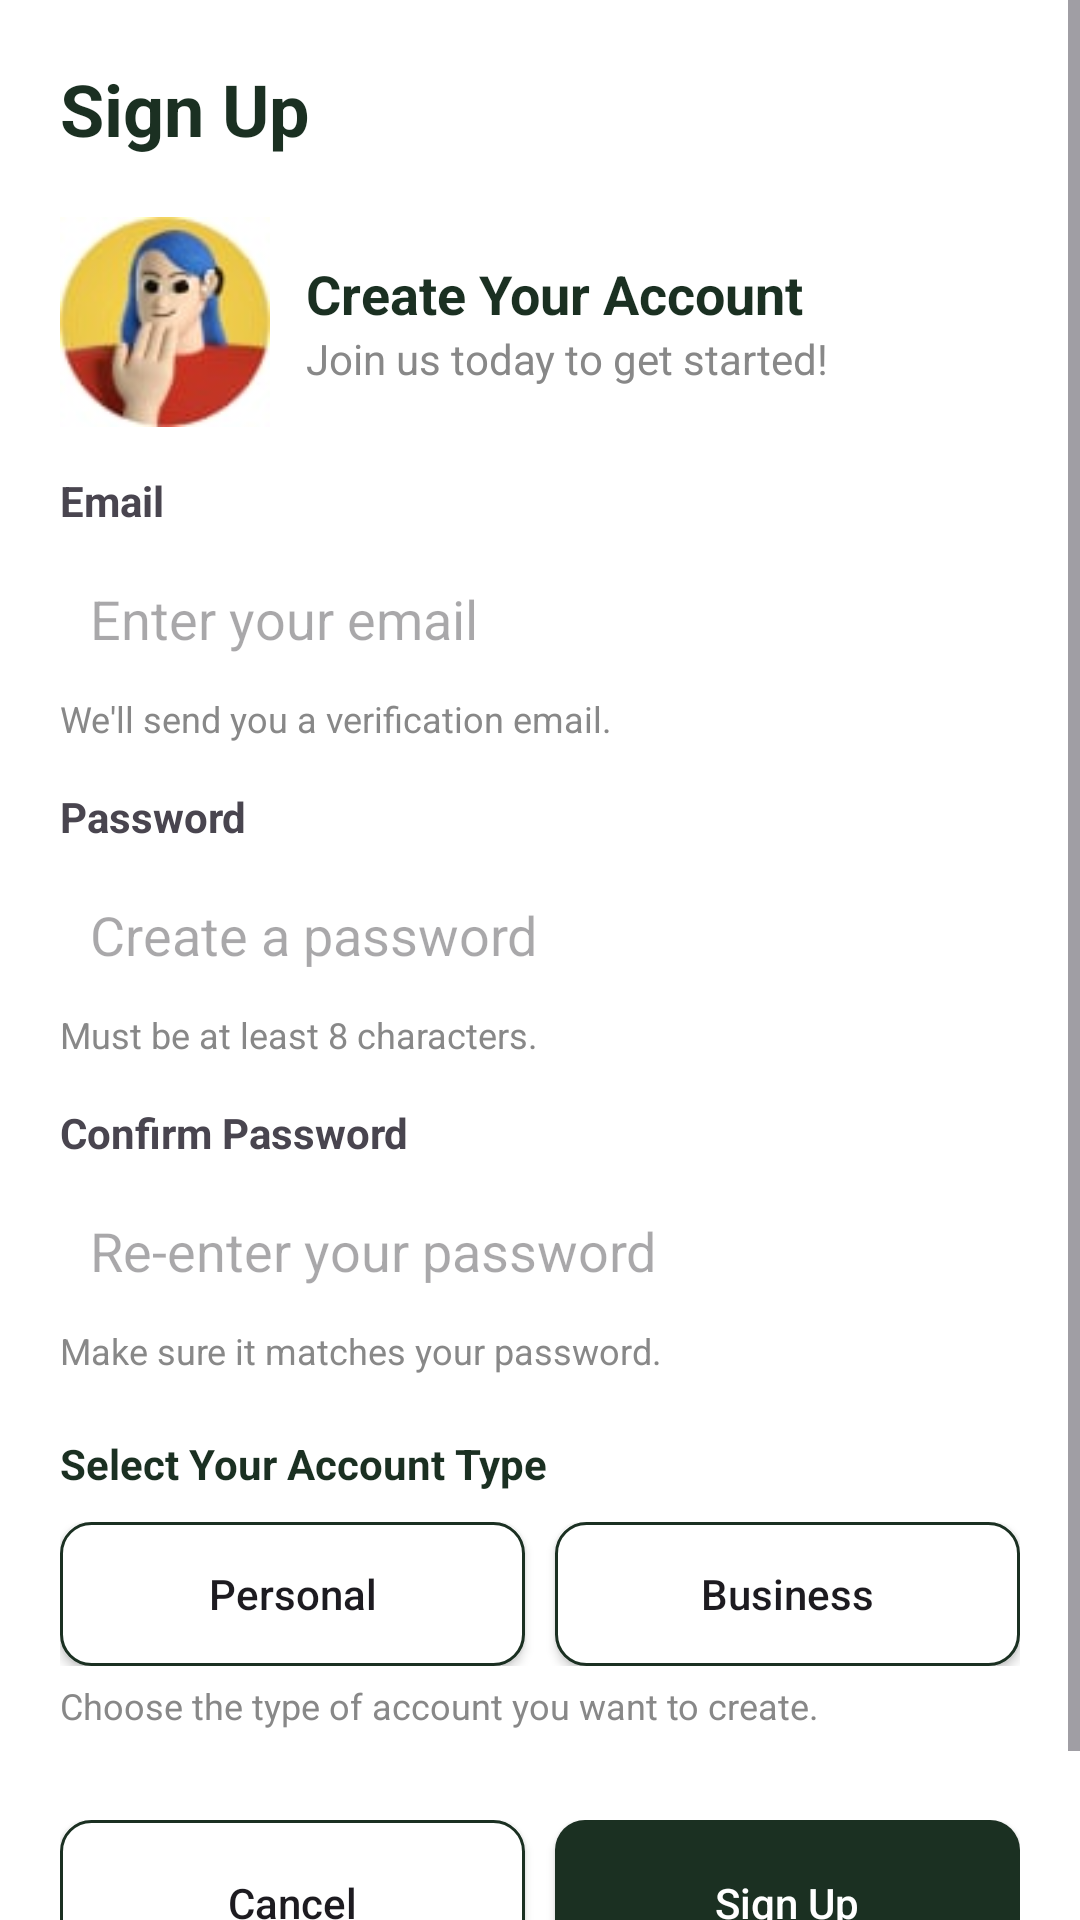

Icon bounding boxes for this 1080px x 1920px phone screenshot, format bbox=[x1, y1, x2, y2]:
profile: bbox=[60, 217, 270, 427]
